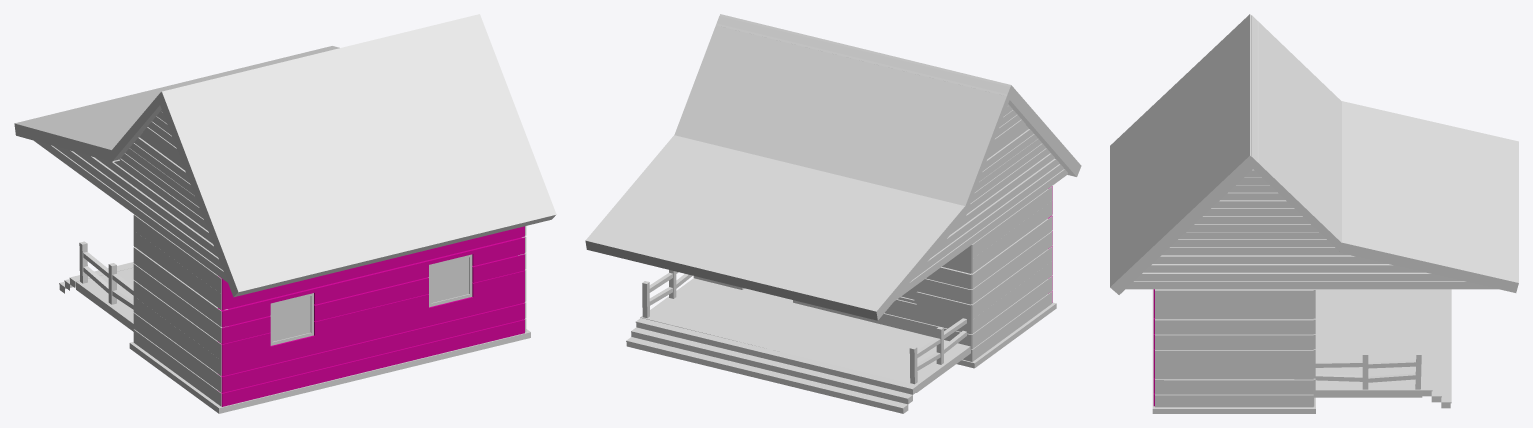
File: newcottage.fbx
3 renders of one model, left to right at view 1: azimuth 30°, elevation 25°; view 2: azimuth 150°, elevation 25°; view 3: azimuth 270°, elevation 25°, orthographic. The views are drawn at different scales.
Parts seen in each view (by area): view 1: Cube.112, Cube.037, Cube.002, Cube.111, Cube.003, Cube.006, Cube.004, Cube.007, Cube.008, Cube.113, Cube.029, Cube.030 (+21 smaller); view 2: Cube.037, Cube.054, Cube.102, Stairs, Cube.112, Cube.029, Cube.027, Cube.011, Cube.030, Cube.012, Cube.013, Cube.015 (+15 smaller); view 3: Cube.037, Cube.112, Cube.054, Cube.102, Stairs, Cube.067, Cube.066, Cube.014, Cube.018, Cube.019, Cube.104, Cube.017 (+14 smaller).
Part boxes in pixels (bbox=[...]): Cube.112: bbox=[157, 14, 556, 297]; Cube.037: bbox=[14, 46, 339, 162]; Cube.002: bbox=[218, 303, 524, 392]; Cube.111: bbox=[221, 287, 524, 376]; Cube.003: bbox=[219, 319, 524, 406]; Cube.006: bbox=[218, 237, 524, 327]; Cube.004: bbox=[218, 270, 524, 360]; Cube.007: bbox=[221, 254, 524, 344]; Cube.008: bbox=[221, 226, 524, 310]; Cube.113: bbox=[129, 329, 530, 413]; Cube.029: bbox=[34, 140, 227, 282]; Cube.030: bbox=[53, 146, 222, 269]; Cube.037: bbox=[585, 135, 966, 320]; Cube.054: bbox=[674, 16, 1010, 214]; Cube.102: bbox=[640, 278, 971, 392]; Stairs: bbox=[626, 318, 917, 413]; Cube.112: bbox=[716, 14, 1081, 176]; Cube.029: bbox=[894, 169, 1067, 301]; Cube.027: bbox=[694, 276, 971, 349]; Cube.011: bbox=[966, 216, 1052, 289]; Cube.030: bbox=[912, 164, 1063, 279]; Cube.012: bbox=[971, 231, 1052, 304]; Cube.013: bbox=[968, 247, 1052, 319]; Cube.015: bbox=[971, 276, 1052, 349]; Cube.037: bbox=[1339, 101, 1518, 292]; Cube.112: bbox=[1110, 14, 1258, 294]; Cube.054: bbox=[1246, 15, 1344, 251]; Cube.102: bbox=[1313, 289, 1422, 397]; Stairs: bbox=[1422, 289, 1451, 408]; Cube.067: bbox=[1126, 281, 1497, 289]; Cube.066: bbox=[1134, 272, 1462, 281]; Cube.014: bbox=[1155, 379, 1313, 394]; Cube.018: bbox=[1155, 334, 1313, 349]; Cube.019: bbox=[1155, 319, 1313, 334]; Cube.104: bbox=[1155, 289, 1313, 304]; Cube.017: bbox=[1155, 350, 1313, 364].
Bounding box in the file's own units: 4203 × 3589 × 5130.
